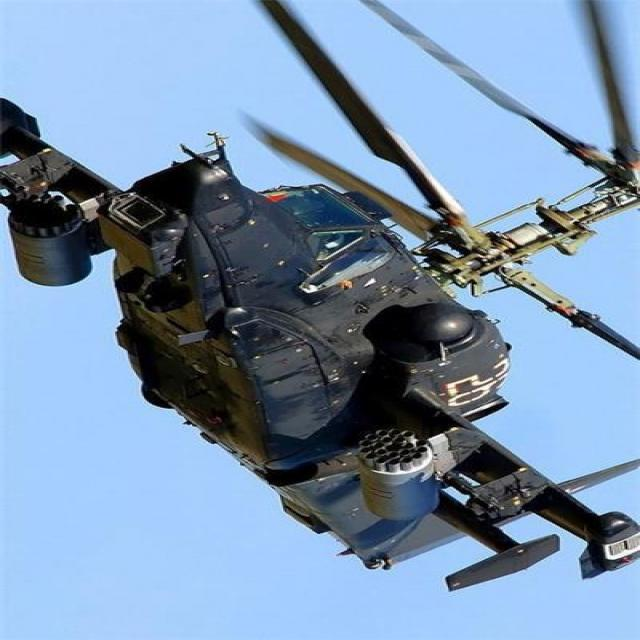MIL_HELO: (1, 6, 640, 595)
